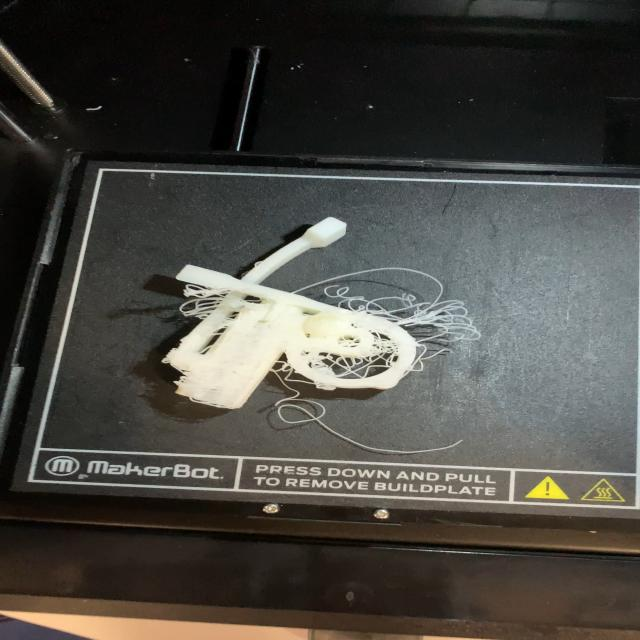spaghetti: (159, 217, 480, 410)
